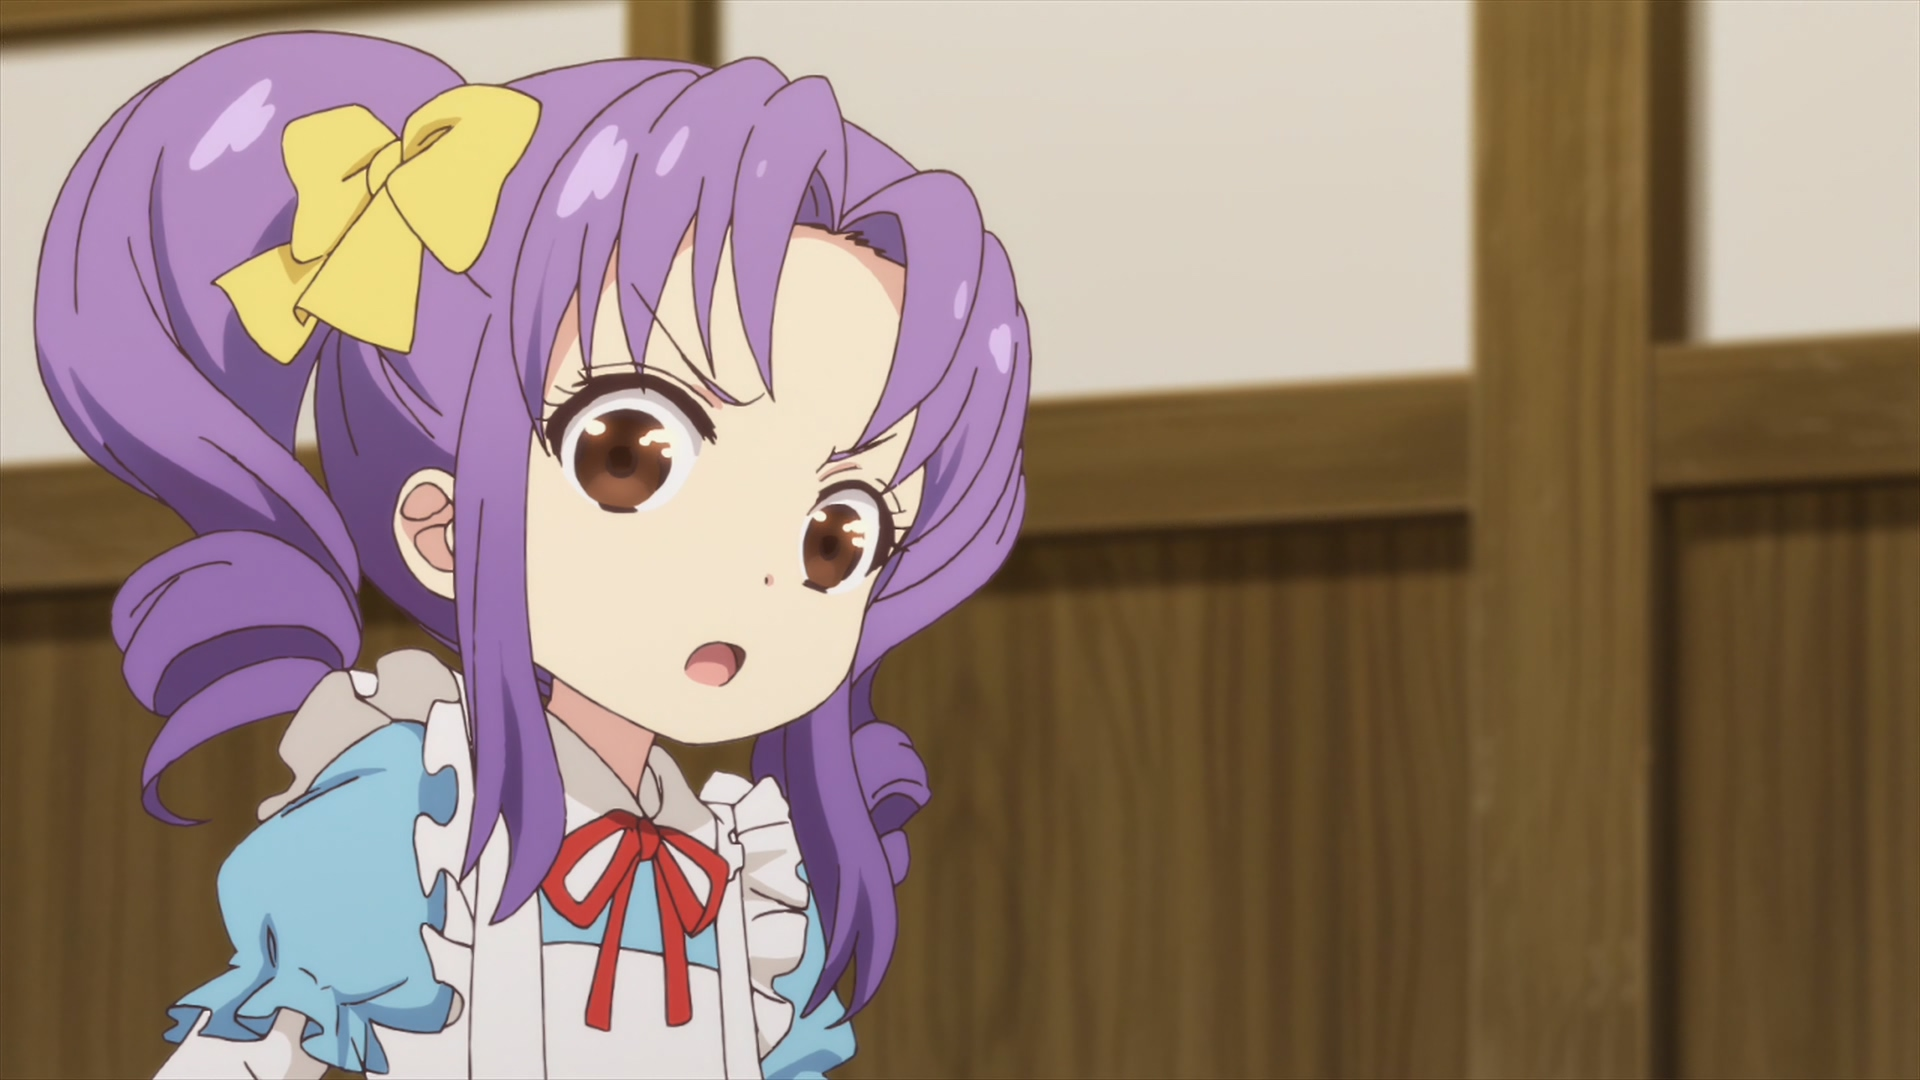阿菊: (33, 32, 1030, 1080)
